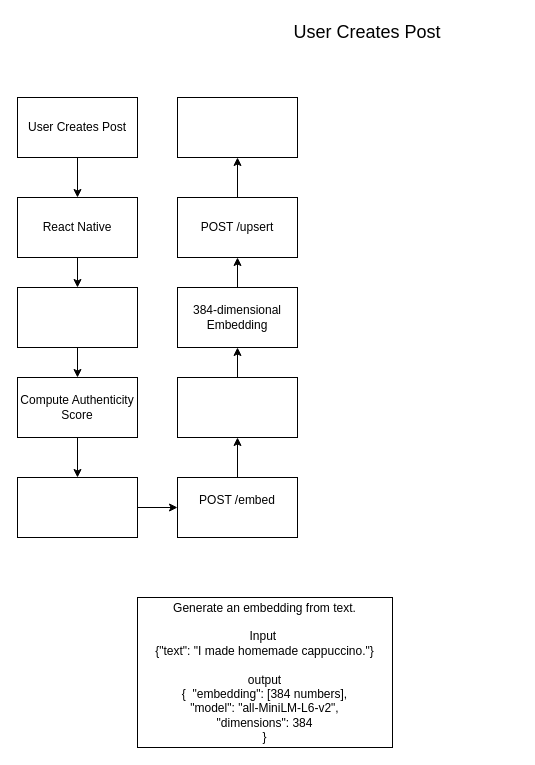
Some shapes in this 535 by 765 pixel diagram are drawn without their labels. Each missing label, with the centre of its shape:
Laravel: [77,317]
Pinecone: [237,127]
Save Post in MySQL: [77,507]
SentenceTransformer: [237,407]
